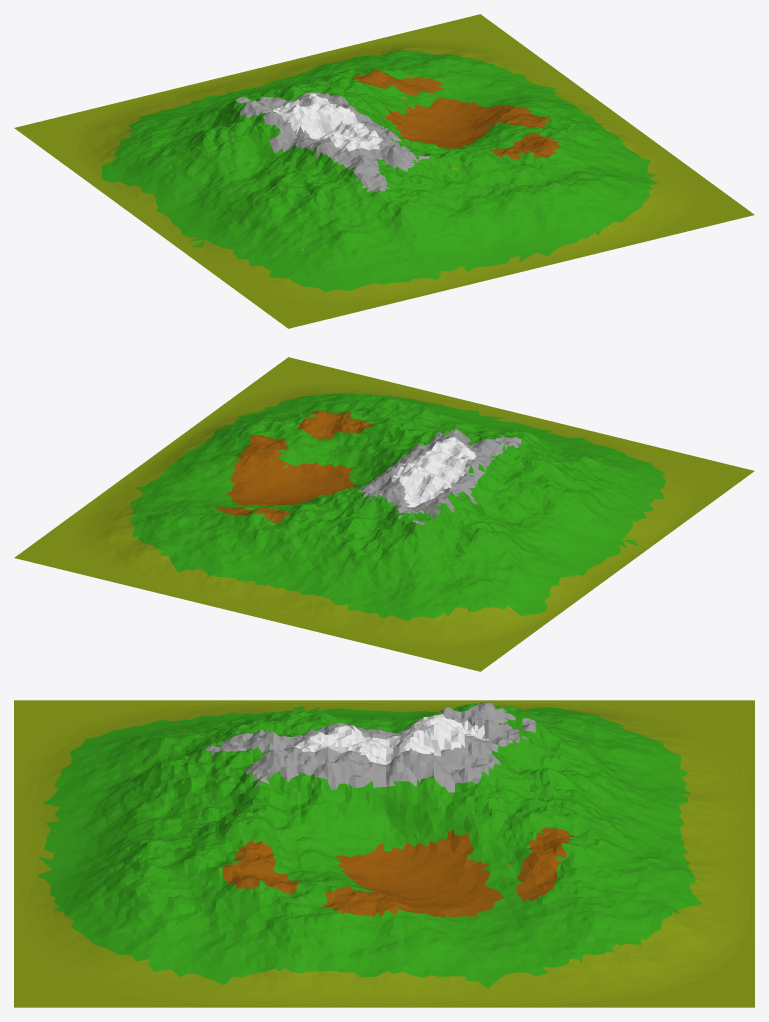
The model's file is terrain.glb.
The picture shows the model from 3 angles, top to bottom: view 1: azimuth 30°, elevation 25°; view 2: azimuth 150°, elevation 25°; view 3: azimuth 270°, elevation 25°; orthographic projection. The views are drawn at different scales.
Visible parts, largest first — view 1: Landscape; view 2: Landscape; view 3: Landscape.
Part boxes in pixels (<box>): Landscape: <box>14,14,754,328</box>; Landscape: <box>14,357,754,671</box>; Landscape: <box>14,700,754,1007</box>.
Size of the model in its own units: 3.2 by 0.4776 by 3.26.
